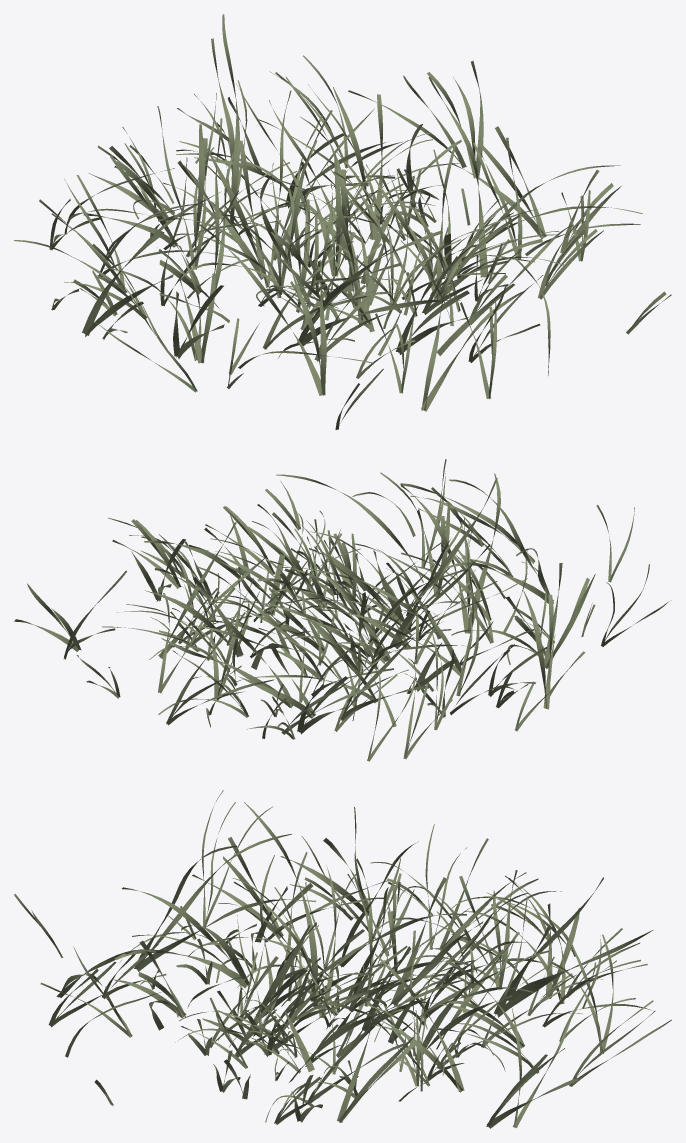
Rendered from smallGrassPatch1.fbx.
The picture shows the model from 3 angles, top to bottom: view 1: azimuth 30°, elevation 25°; view 2: azimuth 150°, elevation 25°; view 3: azimuth 270°, elevation 25°; orthographic projection. The views are drawn at different scales.
Parts seen in each view (by area): view 1: grassCarpet4Main; view 2: grassCarpet4Main; view 3: grassCarpet4Main.
Boxes of the visible parts, x1,y1,x2,y2 form: grassCarpet4Main: [14, 14, 671, 429]; grassCarpet4Main: [14, 459, 671, 761]; grassCarpet4Main: [14, 790, 671, 1128].
Bounding box in the file's own units: 3.09 × 0.914 × 3.17.
